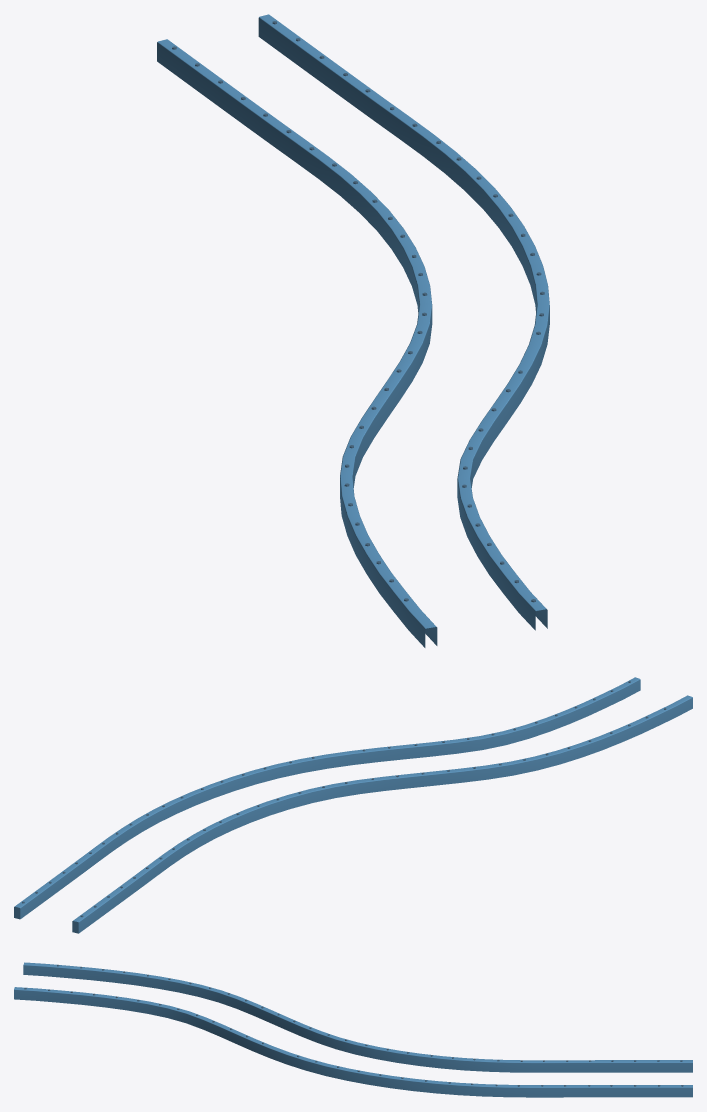
File: railE_side.fbx
3 views of the same model, one above another, from view 1: azimuth 30°, elevation 25°; view 2: azimuth 150°, elevation 25°; view 3: azimuth 270°, elevation 25° (orthographic). The views are drawn at different scales.
Parts seen in each view (by area): view 1: railE_side; view 2: railE_side; view 3: railE_side.
Boxes of the visible parts, x1=… form: railE_side: x1=157, y1=14, x2=549, y2=647; railE_side: x1=14, y1=677, x2=692, y2=933; railE_side: x1=14, y1=962, x2=692, y2=1097.
Size of the model in its own units: 4.96 by 0.1953 by 11.35.
